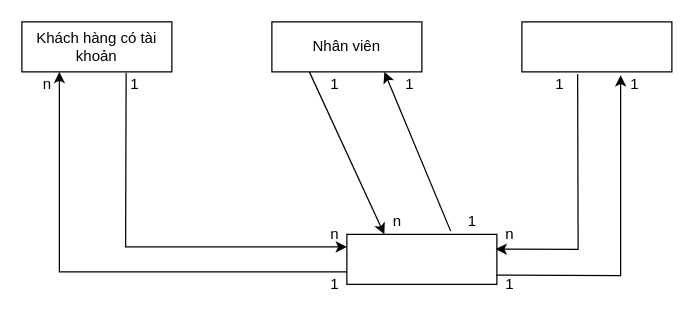
This 694x319 diagram has some shape labels left out. Here are the shapes that lost their labels. From the top down, the centre of each, then its label:
At point (596, 46): "Thể loại".
At point (421, 258): "Sản phẩm".
